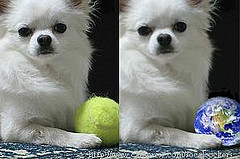tennis ball: (73, 95, 121, 148)
